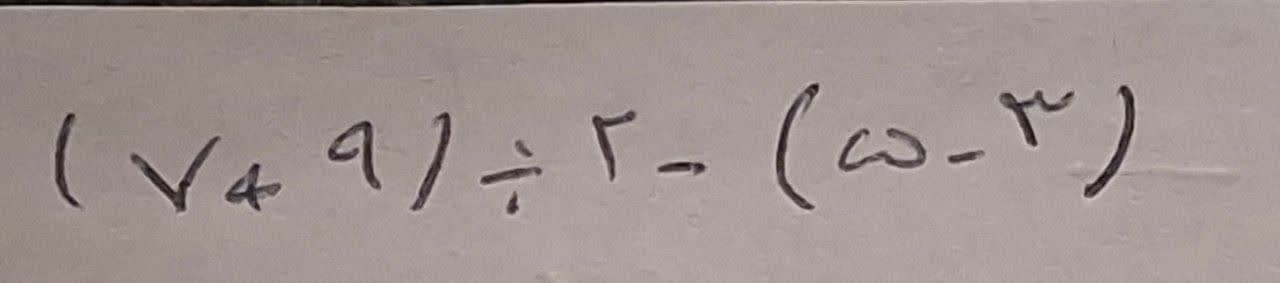character: (128, 132, 220, 214), (1080, 86, 1135, 203), (773, 82, 816, 212), (477, 135, 545, 217), (998, 85, 1075, 150), (834, 123, 925, 172), (411, 111, 454, 211), (325, 118, 382, 192), (51, 111, 83, 213), (588, 108, 635, 177), (223, 163, 280, 215), (653, 157, 706, 180), (947, 145, 987, 167)
